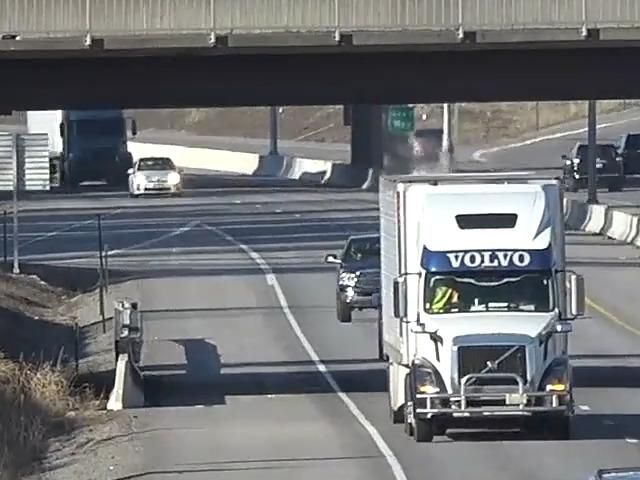truck: (370, 180, 617, 413)
